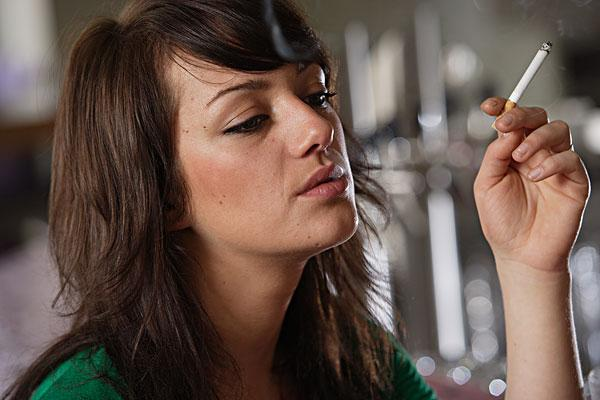smoke: (491, 39, 556, 133)
